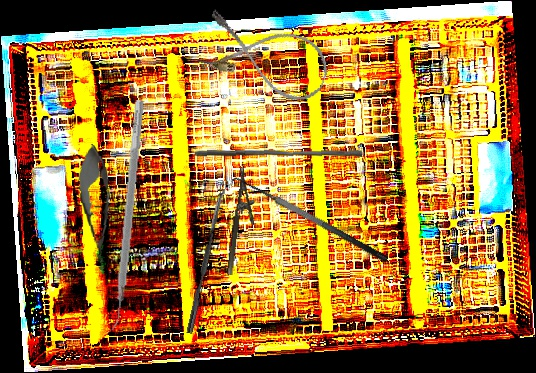Cannula: (194, 5, 336, 108)
Micro Scissor: (74, 142, 119, 274)
Needle Holder: (225, 167, 262, 277)
Pusher: (193, 144, 364, 163)
Spatula Surgical: (226, 169, 390, 276), (104, 99, 145, 333)
Surgical Spoon: (186, 182, 228, 335)
